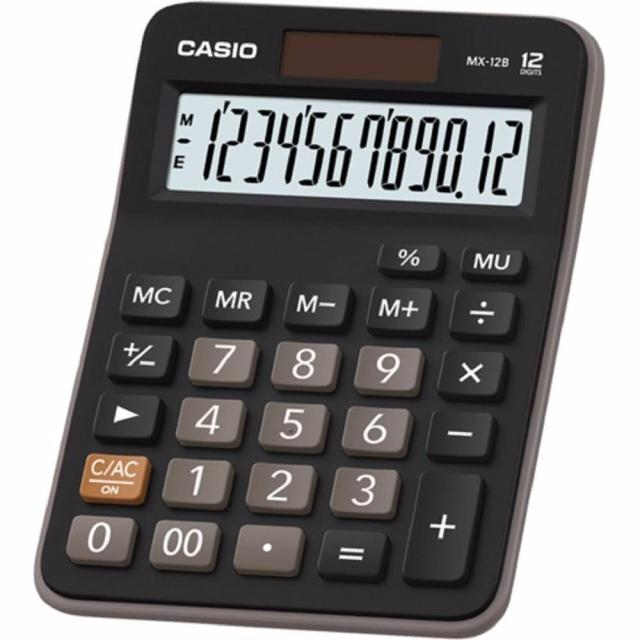Calculator: (0, 6, 639, 640)
